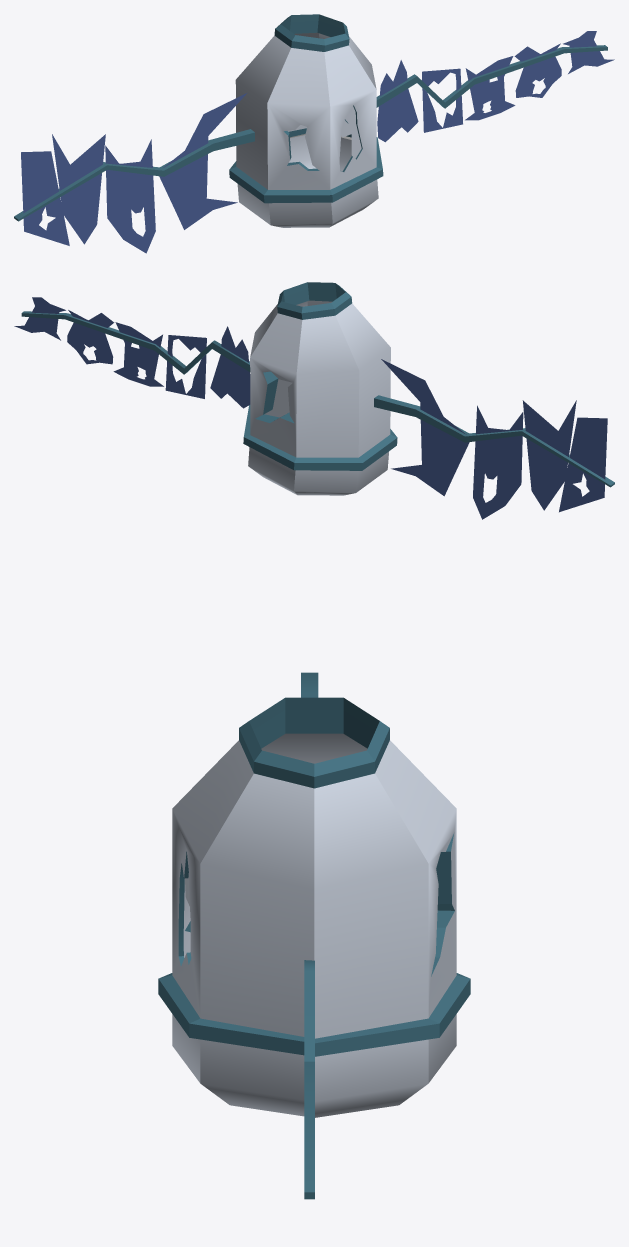
The model's file is spacetrash_medium_kind1.fbx.
3 renders of one model, top to bottom at view 1: azimuth 30°, elevation 25°; view 2: azimuth 150°, elevation 25°; view 3: azimuth 270°, elevation 25°, orthographic. The views are drawn at different scales.
Visible parts, largest first — view 1: front1; view 2: front1; view 3: front1.
Boxes of the visible parts, box(x1,y1,x2,y2) form: front1: box(14, 14, 614, 253); front1: box(14, 282, 614, 519); front1: box(158, 672, 470, 1199).
Size of the model in its own units: 948 by 285 by 214.
